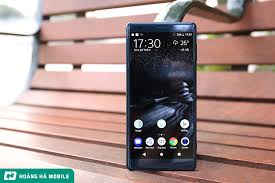sony: (123, 21, 201, 172)
